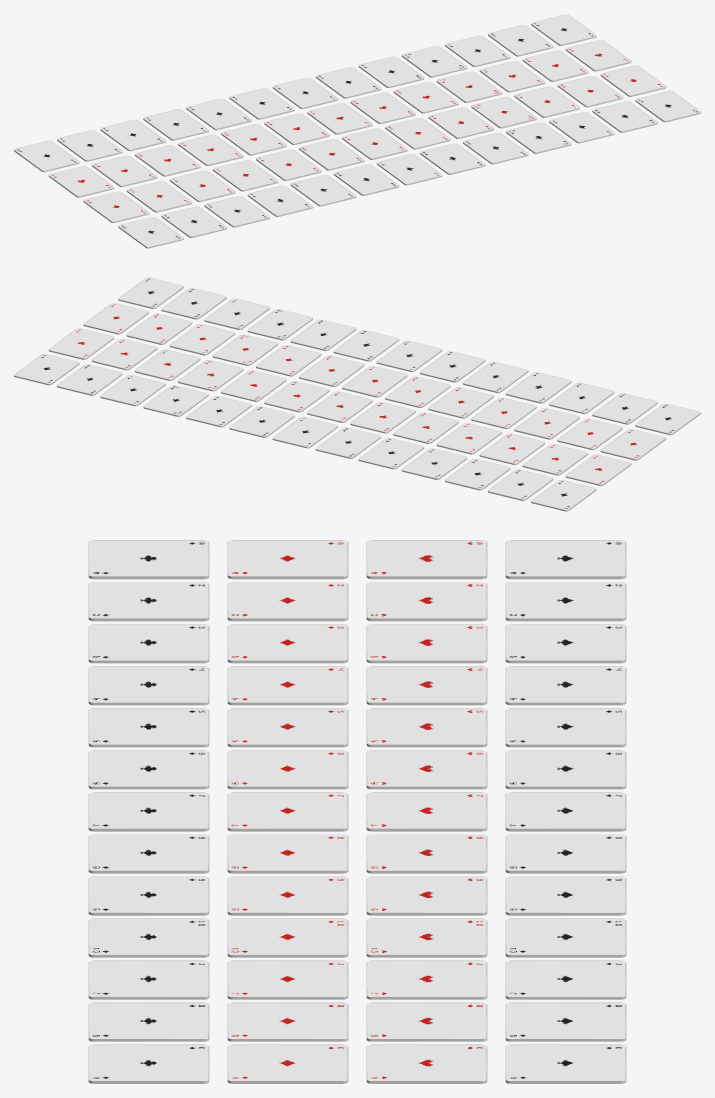
The model's file is deck.glb.
3 views of the same model, one above another, from view 1: azimuth 30°, elevation 25°; view 2: azimuth 150°, elevation 25°; view 3: azimuth 270°, elevation 25° (orthographic). The views are drawn at different scales.
Visible parts, largest first — view 1: Card_A_spades, Card_8_spades, Card_10_hearts, Card_4_diamonds, Card_6_clubs, Card_K_clubs, Card_5_spades, Card_6_spades, Card_9_hearts, Card_J_hearts, Card_Q_hearts, Card_2_diamonds (+40 smaller); view 2: Card_6_spades, Card_K_spades, Card_10_diamonds, Card_A_clubs, Card_8_clubs, Card_8_spades, Card_9_spades, Card_2_hearts, Card_3_hearts, Card_4_hearts, Card_5_hearts, Card_9_diamonds (+40 smaller); view 3: Card_3_spades, Card_6_spades, Card_7_spades, Card_8_spades, Card_J_spades, Card_3_hearts, Card_6_hearts, Card_7_hearts, Card_8_hearts, Card_J_hearts, Card_3_diamonds, Card_6_diamonds (+40 smaller).
Part boxes in pixels (x1,y1,x2,y2): Card_A_spades: (14, 140, 79, 172); Card_8_spades: (315, 67, 381, 98); Card_10_hearts: (436, 71, 502, 102); Card_4_diamonds: (212, 160, 278, 191); Card_6_clubs: (333, 164, 399, 195); Card_K_clubs: (635, 90, 700, 122); Card_5_spades: (186, 98, 251, 130); Card_6_spades: (229, 88, 294, 119); Card_9_hearts: (393, 82, 458, 113); Card_J_hearts: (479, 61, 545, 92); Card_Q_hearts: (522, 50, 588, 81); Card_2_diamonds: (126, 181, 192, 212); Card_6_spades: (315, 427, 381, 458); Card_K_spades: (14, 353, 79, 385); Card_10_diamonds: (212, 334, 278, 365); Card_A_clubs: (635, 403, 700, 435); Card_8_clubs: (333, 330, 399, 361); Card_8_spades: (229, 406, 294, 437); Card_9_spades: (186, 395, 251, 427); Card_2_hearts: (522, 444, 588, 475); Card_3_hearts: (479, 433, 545, 464); Card_4_hearts: (436, 423, 502, 454); Card_5_hearts: (393, 412, 458, 443); Card_9_diamonds: (256, 345, 321, 376); Card_3_spades: (505, 624, 626, 663); Card_6_spades: (505, 750, 626, 789); Card_7_spades: (505, 792, 626, 831); Card_8_spades: (505, 834, 626, 873); Card_J_spades: (505, 960, 626, 999); Card_3_hearts: (366, 624, 487, 663); Card_6_hearts: (366, 750, 487, 789); Card_7_hearts: (366, 792, 487, 831); Card_8_hearts: (366, 834, 487, 873); Card_J_hearts: (366, 960, 487, 999); Card_3_diamonds: (227, 624, 348, 663); Card_6_diamonds: (227, 750, 348, 789).
Bounding box in the file's own units: 0.9324 × 0.002 × 0.3916.
Materials: 156 (104 with a texture image).
